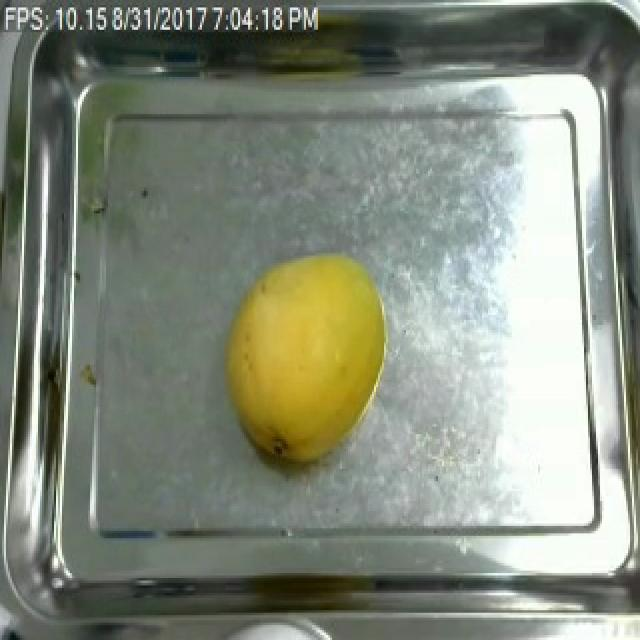fruit: (210, 243, 398, 474)
